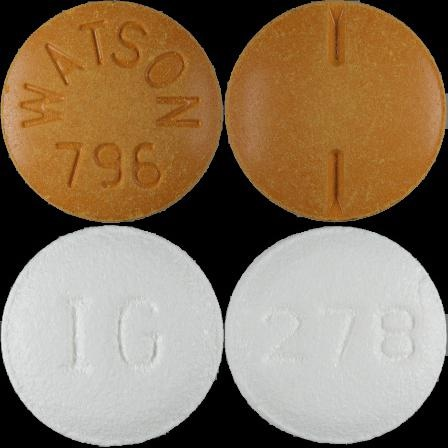50268-730: (0, 0, 224, 224)
